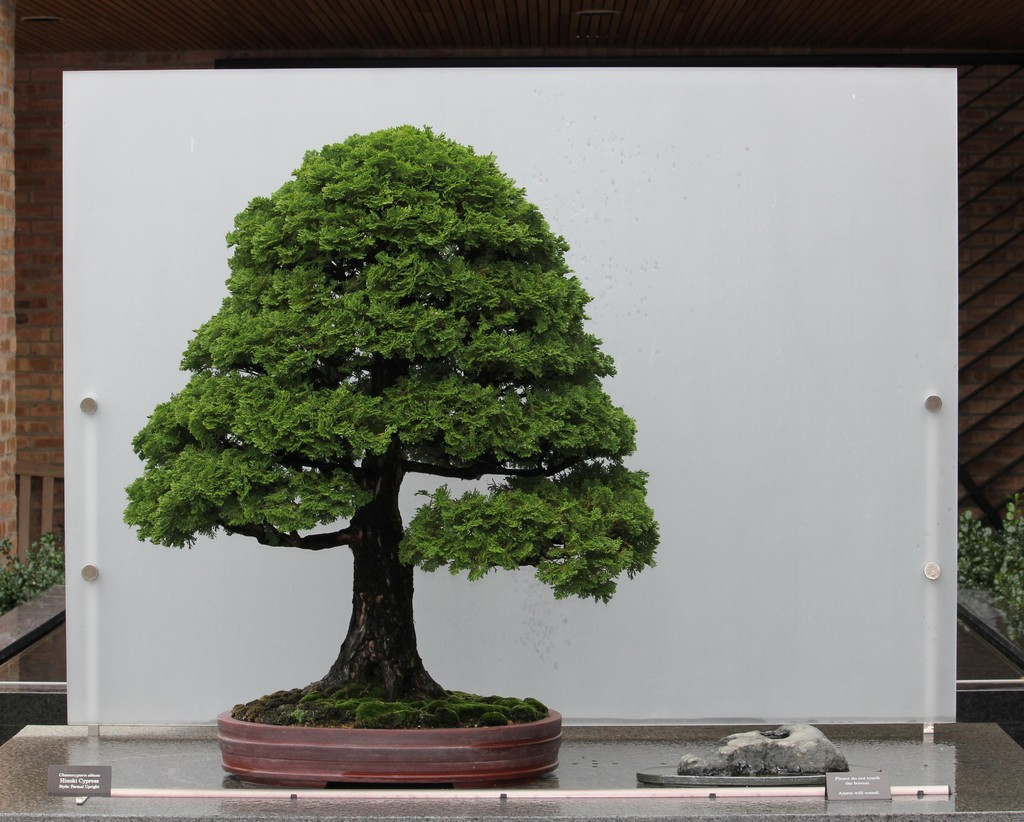Tree: (122, 123, 661, 692)
